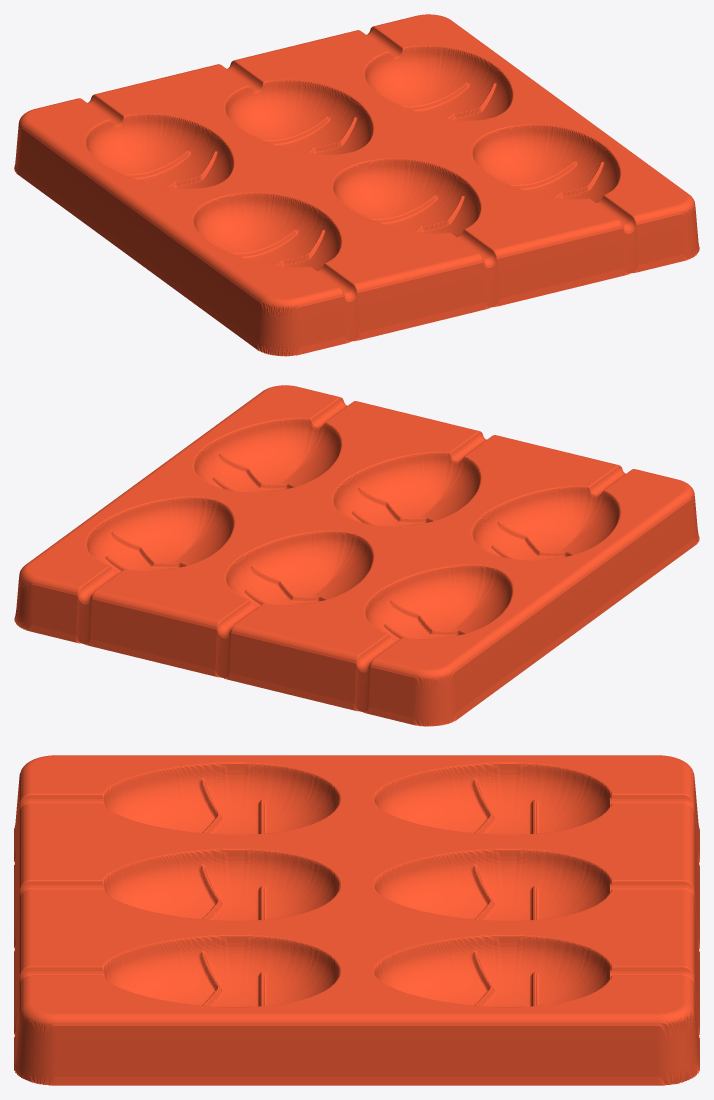
The model's file is mold.glb.
3 views of the same model, one above another, from view 1: azimuth 30°, elevation 25°; view 2: azimuth 150°, elevation 25°; view 3: azimuth 270°, elevation 25° (orthographic). The views are drawn at different scales.
Parts seen in each view (by area): view 1: geometry_0; view 2: geometry_0; view 3: geometry_0.
Part boxes in pixels (x1=…): geometry_0: x1=14, y1=14, x2=699, y2=356; geometry_0: x1=14, y1=385, x2=699, y2=726; geometry_0: x1=14, y1=755, x2=699, y2=1085.
Bounding box in the file's own units: 0.1382 × 0.0155 × 0.1477.
